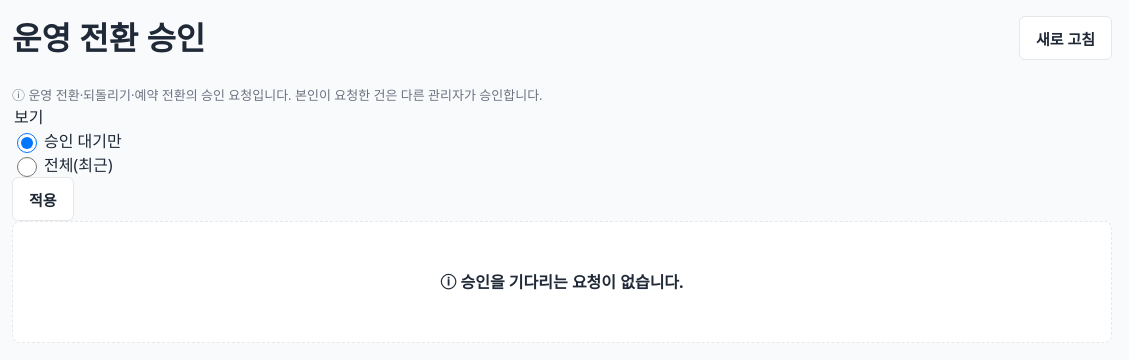
Test: AP-1 운영 전환 승인 목록 › 보기는 "적용" 버튼으로만 바뀌고 전체 보기는 status=ALL로 다시 조회한다
Expected: the text "승인을 기다리는 요청이 없습니다." is shown, top-left (460, 271), bottom-right (684, 293)
Click the radio button labelled "전체(최근)" at (27, 167), box top-left (17, 157), bottom-right (37, 177)
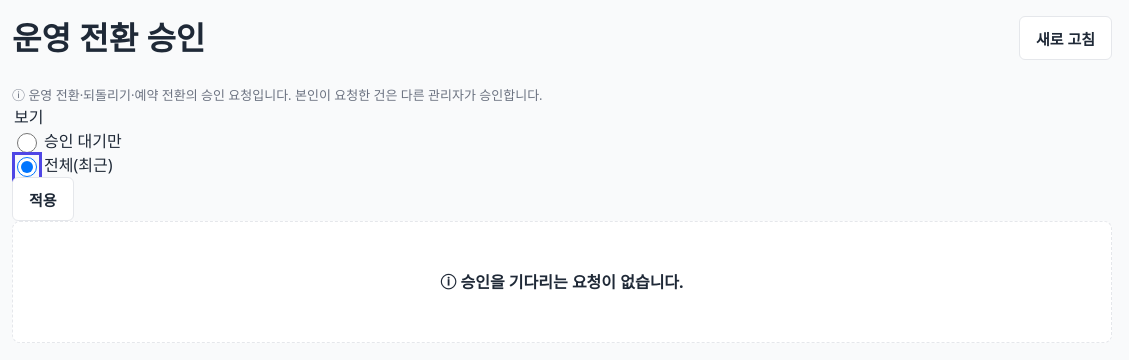
Click the button "적용" at (43, 199), box top-left (12, 177), bottom-right (74, 221)
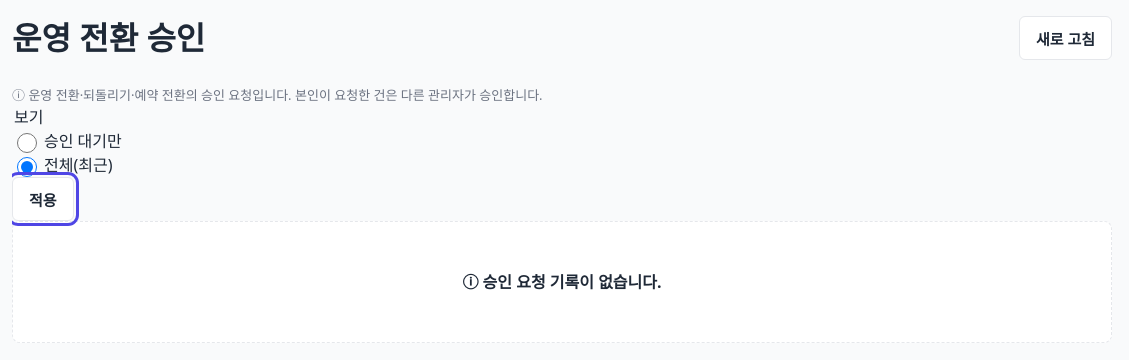
Now the text "승인 요청 기록이 없습니다." is shown, box top-left (483, 271), bottom-right (662, 293)
